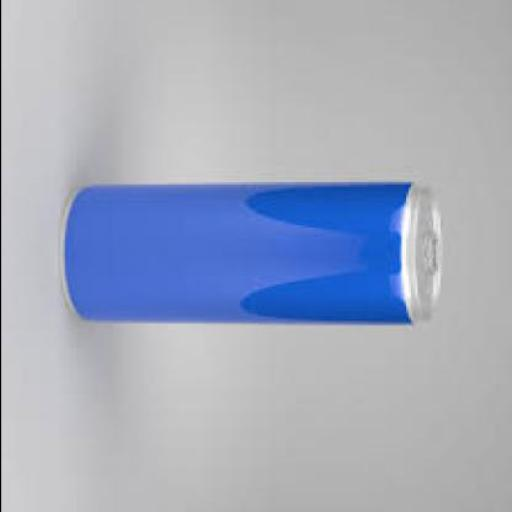metal: (61, 184, 442, 328)
